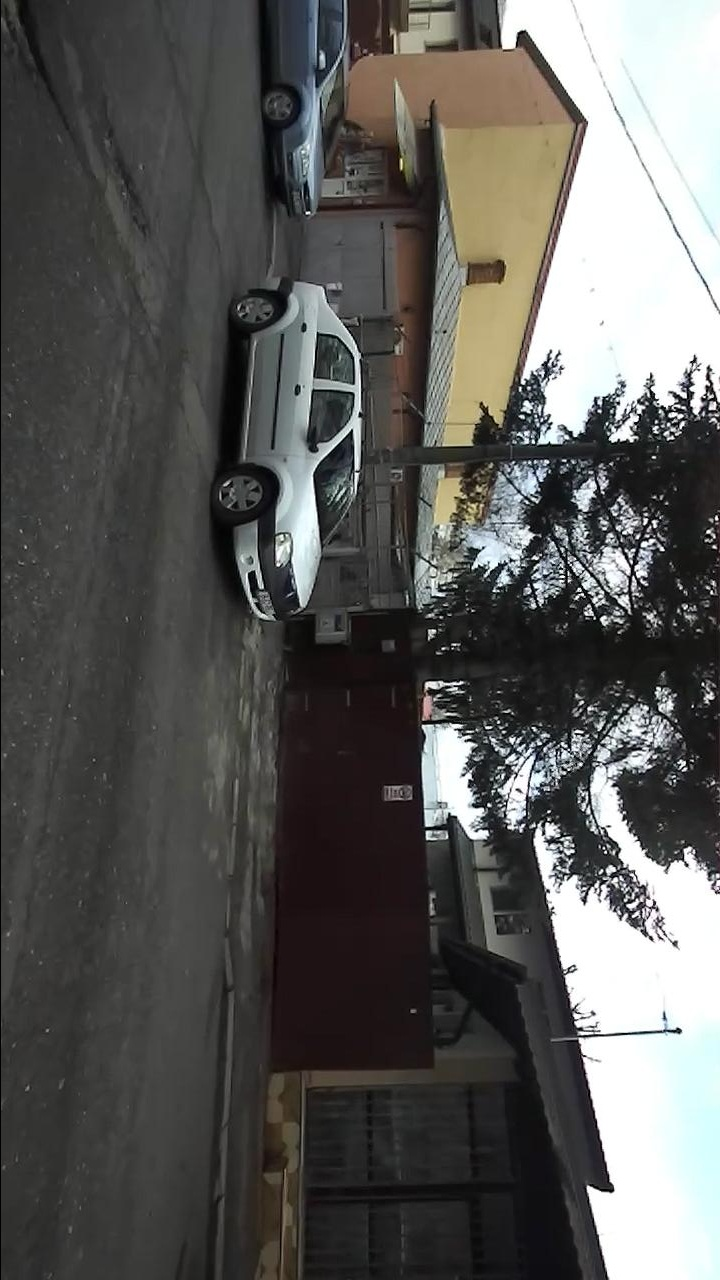pothole: (2, 0, 82, 156), (86, 105, 159, 244)
